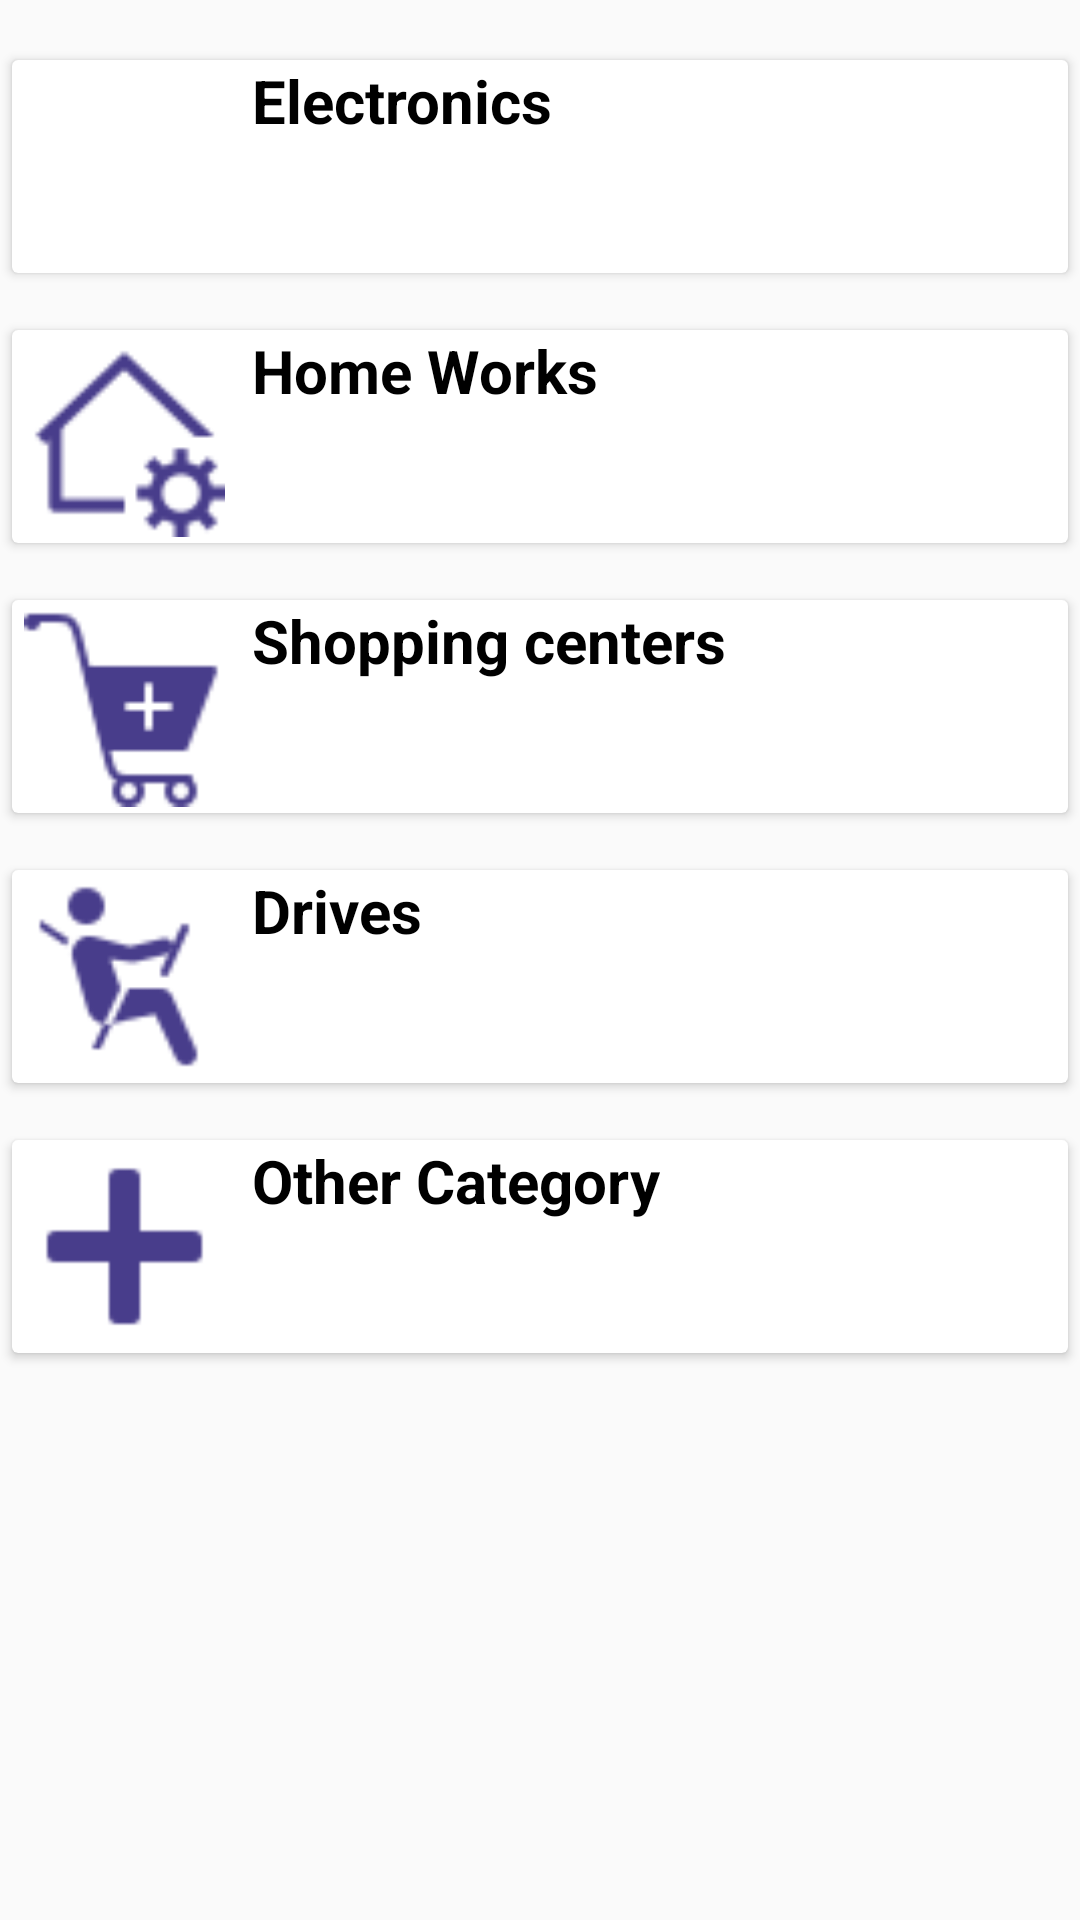

Icons on this 1080w x 1920h Android screen, each with the point to tap as (x=x, y=y):
driving: (x=118, y=976)
plus: (x=124, y=1246)
